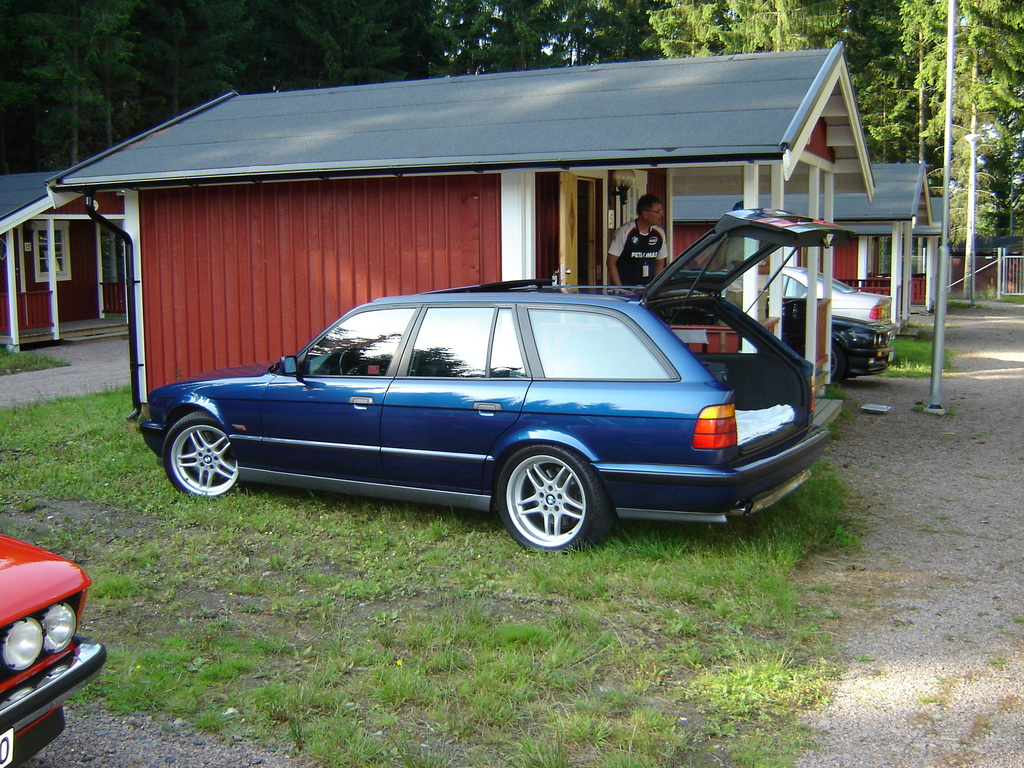Car: (149, 279, 843, 553), (0, 532, 107, 767), (790, 307, 887, 381), (788, 266, 889, 335)
